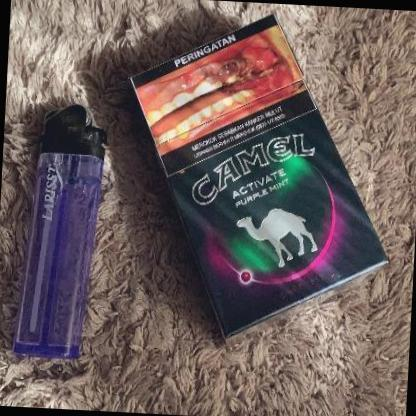objects: (117, 6, 400, 354)
